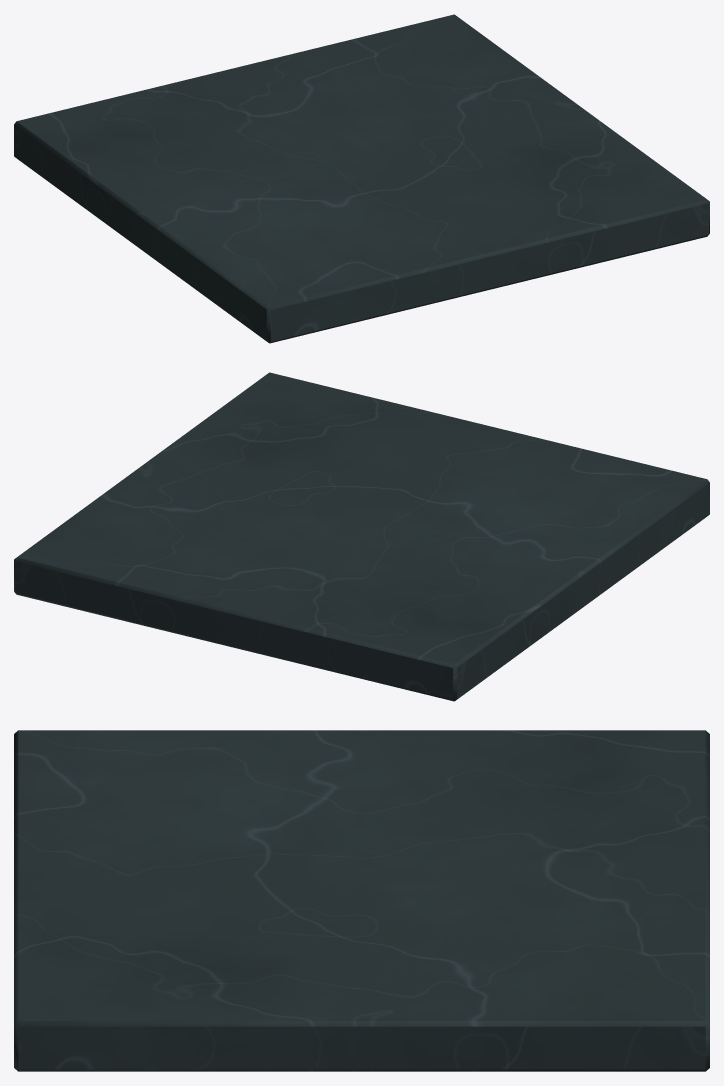
File: tile_dark.glb
3 views of the same model, one above another, from view 1: azimuth 30°, elevation 25°; view 2: azimuth 150°, elevation 25°; view 3: azimuth 270°, elevation 25° (orthographic). The views are drawn at different scales.
Visible parts, largest first — view 1: Tile_Dark_Mesh; view 2: Tile_Dark_Mesh; view 3: Tile_Dark_Mesh.
Part boxes in pixels (x1=…): Tile_Dark_Mesh: x1=14, y1=14, x2=709, y2=343; Tile_Dark_Mesh: x1=14, y1=372, x2=709, y2=701; Tile_Dark_Mesh: x1=14, y1=730, x2=709, y2=1071.
Size of the model in its own units: 0.995 by 0.08 by 0.995.
1 material, 1 textured.
